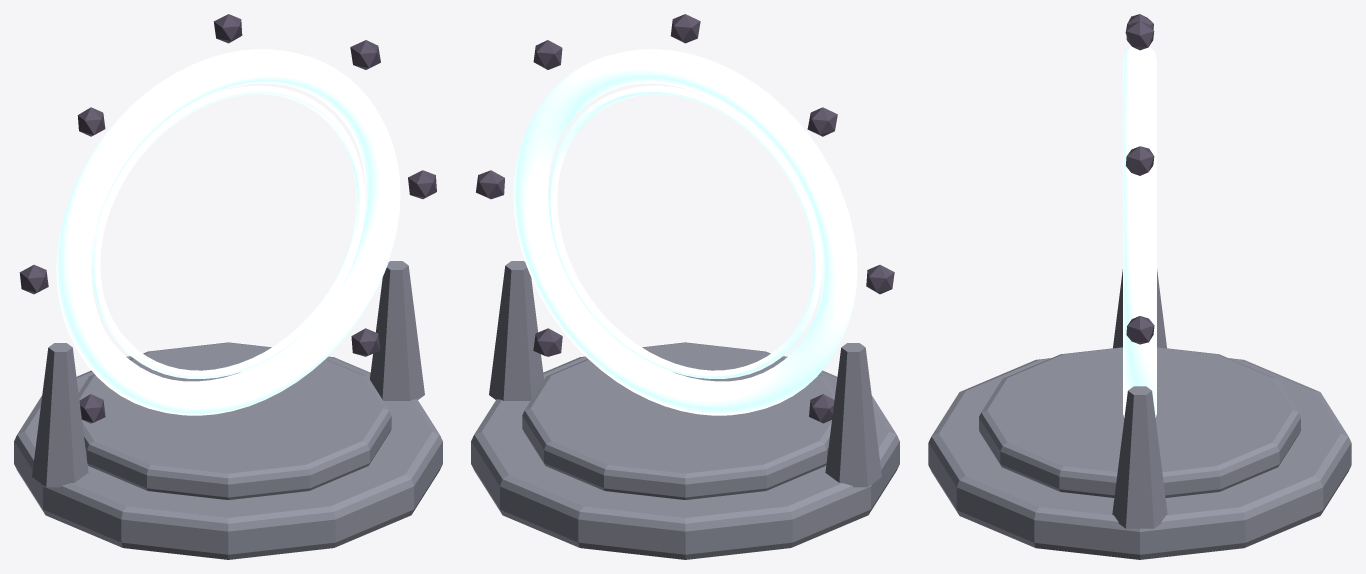
Rendered from portal.glb.
3 views of the same model, side by side, from view 1: azimuth 30°, elevation 25°; view 2: azimuth 150°, elevation 25°; view 3: azimuth 270°, elevation 25° (orthographic).
Visible parts, largest first — view 1: Cylinder; view 2: Cylinder; view 3: Cylinder.
Part boxes in pixels (left/top/right/bottom): Cylinder: left=14, top=14, right=442, bottom=559; Cylinder: left=471, top=14, right=899, bottom=559; Cylinder: left=928, top=14, right=1351, bottom=559.
Size of the model in its own units: 4.69 by 4.97 by 4.2.
